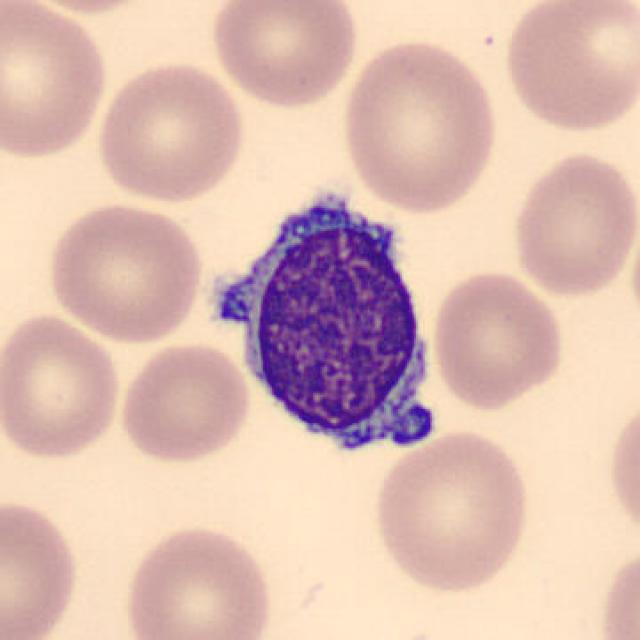Lymphocyte: (201, 178, 451, 471)
RBC: (336, 35, 503, 217), (368, 425, 535, 596), (43, 199, 206, 346), (92, 58, 249, 206), (427, 266, 567, 413), (507, 148, 638, 300), (0, 308, 126, 464), (498, 0, 638, 136), (119, 520, 277, 640), (0, 0, 112, 162), (114, 339, 254, 467), (206, 0, 361, 111), (0, 493, 83, 640), (604, 393, 640, 547), (594, 542, 638, 638), (9, 0, 163, 16)
